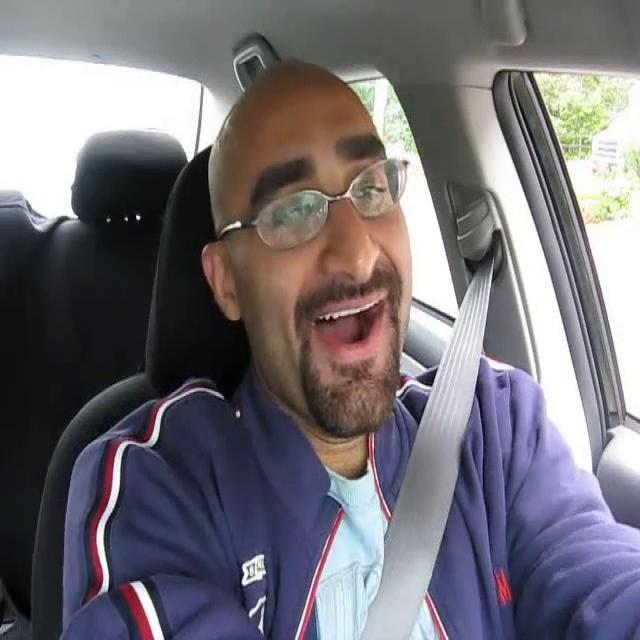open-mouth: (308, 284, 394, 361)
